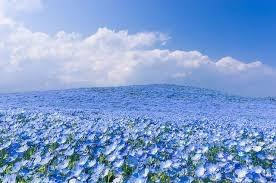field: (0, 86, 275, 182)
